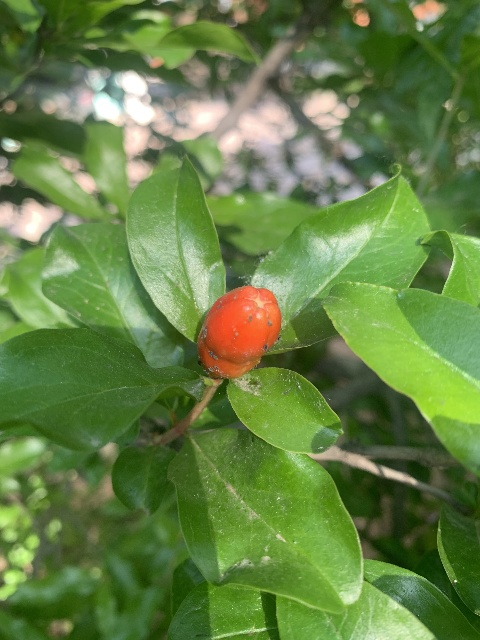bud: (198, 285, 281, 378)
